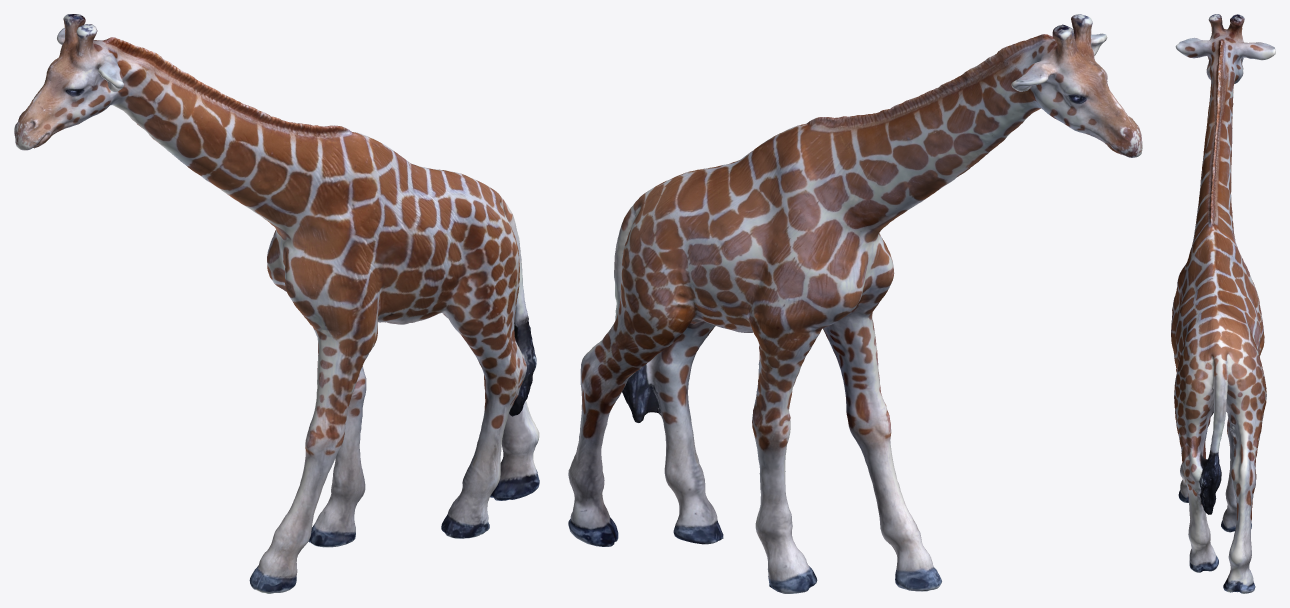
Rendered from giraffe.glb.
3 renders of one model, left to right at view 1: azimuth 30°, elevation 25°; view 2: azimuth 150°, elevation 25°; view 3: azimuth 270°, elevation 25°, orthographic. The views are drawn at different scales.
Parts seen in each view (by area): view 1: g0_2; view 2: g0_2; view 3: g0_2.
Boxes of the visible parts, x1=… form: g0_2: x1=14, y1=14, x2=539, y2=593; g0_2: x1=568, y1=14, x2=1142, y2=593; g0_2: x1=1171, y1=14, x2=1275, y2=593.
Size of the model in its own units: 1.17 by 1.25 by 0.2806.
1 material, 1 textured.
